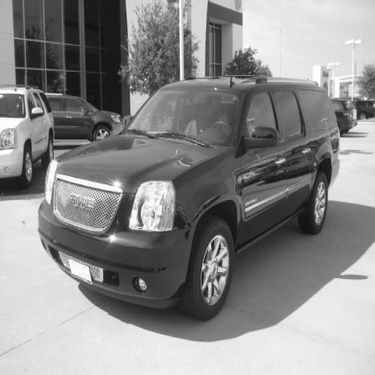car: (29, 63, 347, 319), (39, 82, 126, 163), (1, 77, 58, 193), (328, 88, 361, 138), (354, 90, 375, 128)
